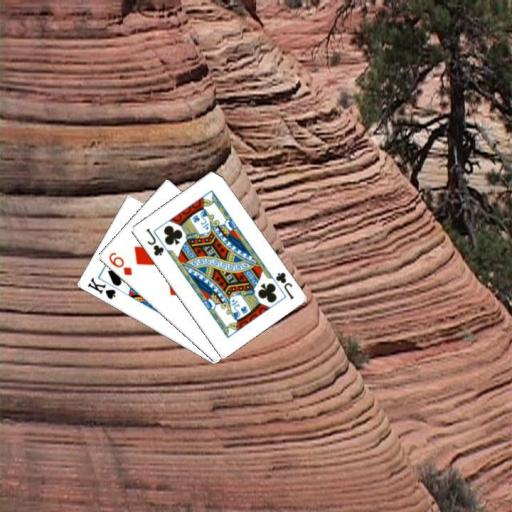6D: (105, 249, 133, 277)
JC: (142, 225, 165, 257), (272, 269, 295, 301)
KS: (84, 274, 117, 301)
